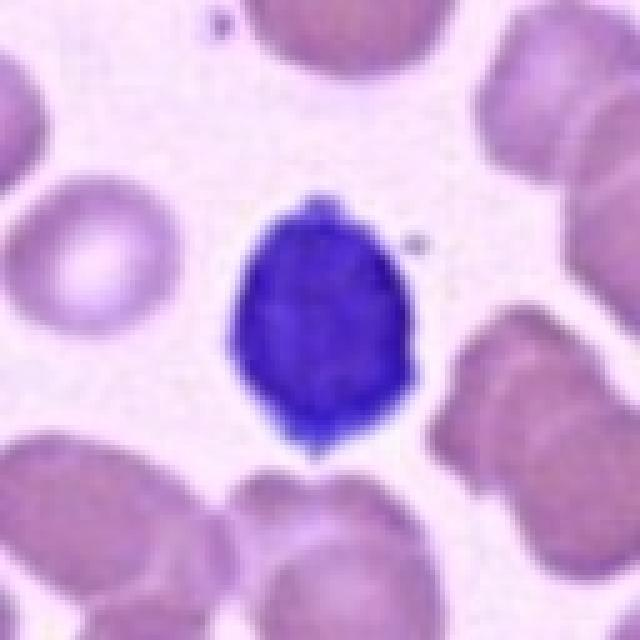lympho: (218, 185, 431, 459)
